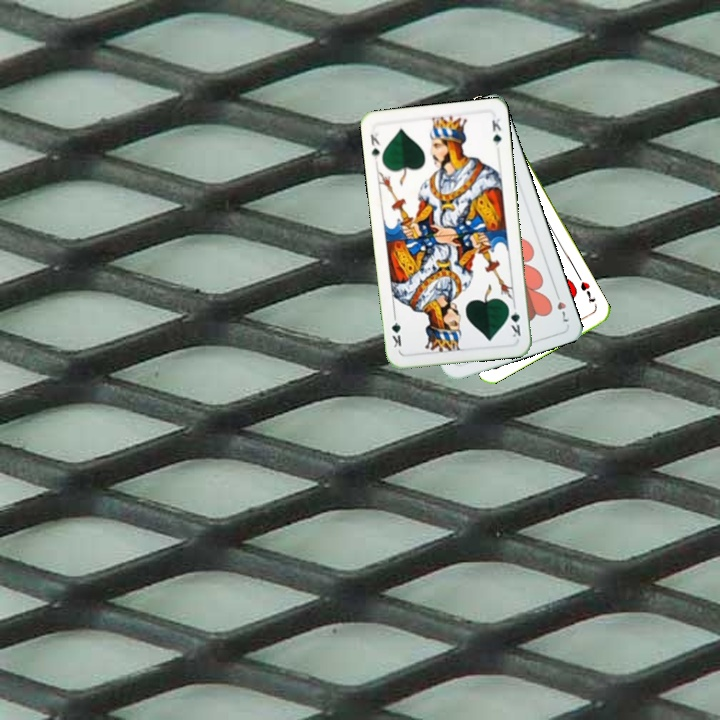GK: (504, 300, 523, 340), (366, 129, 383, 162)
H7: (551, 287, 572, 324), (576, 277, 598, 306)
